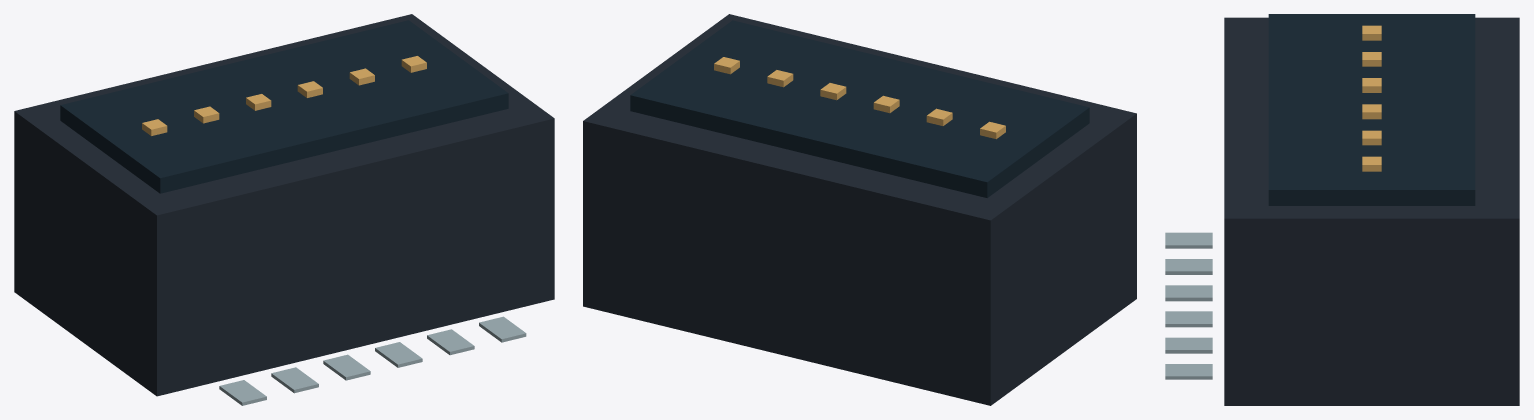
The model's file is 46_L97_J1_Connector.fbx.
3 views of the same model, side by side, from view 1: azimuth 30°, elevation 25°; view 2: azimuth 150°, elevation 25°; view 3: azimuth 270°, elevation 25° (orthographic). The views are drawn at different scales.
Visible parts, largest first — view 1: J1_shell, J1_opening, J1_foot_4, J1_foot_0, J1_foot_1, J1_foot_3, J1_foot_5, J1_foot_2; view 2: J1_shell, J1_opening; view 3: J1_shell, J1_opening, J1_foot_0, J1_foot_2, J1_foot_3, J1_foot_4, J1_foot_1, J1_foot_5.
Boxes of the visible parts, left/top/right/bottom form: J1_shell: left=14, top=14, right=554, bottom=396; J1_opening: left=60, top=20, right=508, bottom=193; J1_foot_4: left=427, top=329, right=474, bottom=355; J1_foot_0: left=219, top=380, right=266, bottom=405; J1_foot_1: left=271, top=367, right=318, bottom=393; J1_foot_3: left=375, top=342, right=422, bottom=367; J1_foot_5: left=479, top=316, right=526, bottom=342; J1_foot_2: left=323, top=354, right=370, bottom=380; J1_shell: left=583, top=14, right=1136, bottom=405; J1_opening: left=630, top=20, right=1089, bottom=197; J1_shell: left=1224, top=17, right=1519, bottom=405; J1_opening: left=1268, top=14, right=1475, bottom=205; J1_foot_0: left=1165, top=232, right=1212, bottom=248; J1_foot_2: left=1165, top=285, right=1212, bottom=301; J1_foot_3: left=1165, top=311, right=1212, bottom=327; J1_foot_4: left=1165, top=337, right=1212, bottom=353; J1_foot_1: left=1165, top=259, right=1212, bottom=274; J1_foot_5: left=1165, top=364, right=1212, bottom=379.
Size of the model in its own units: 0.0161 by 0.00795 by 0.012.
